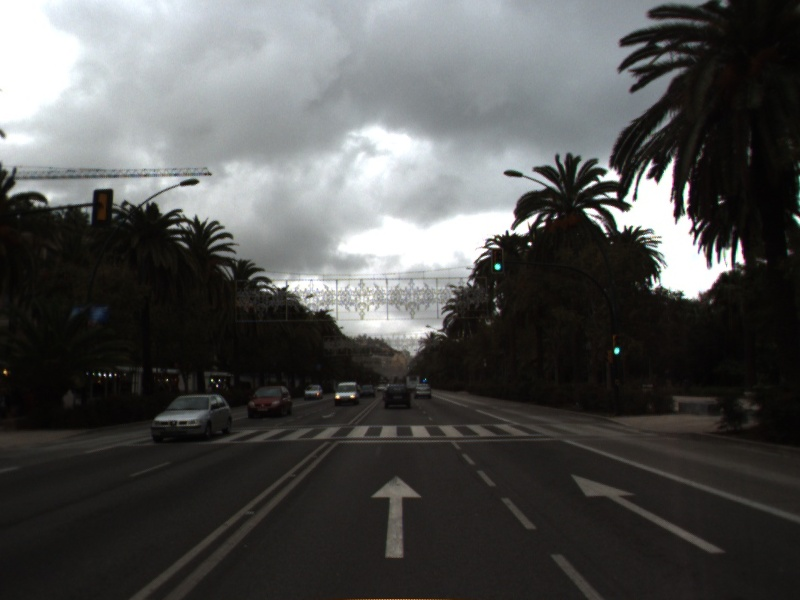STRAIGHT: (569, 472, 730, 556), (368, 473, 424, 560)
